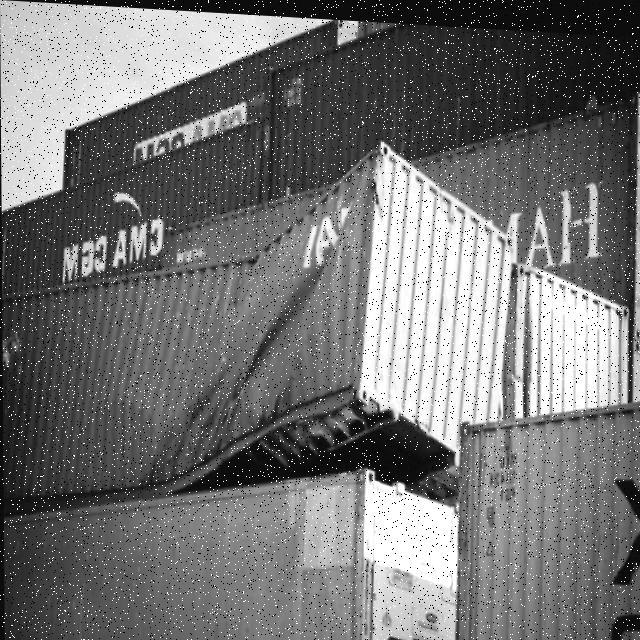dent: (152, 136, 411, 499)
